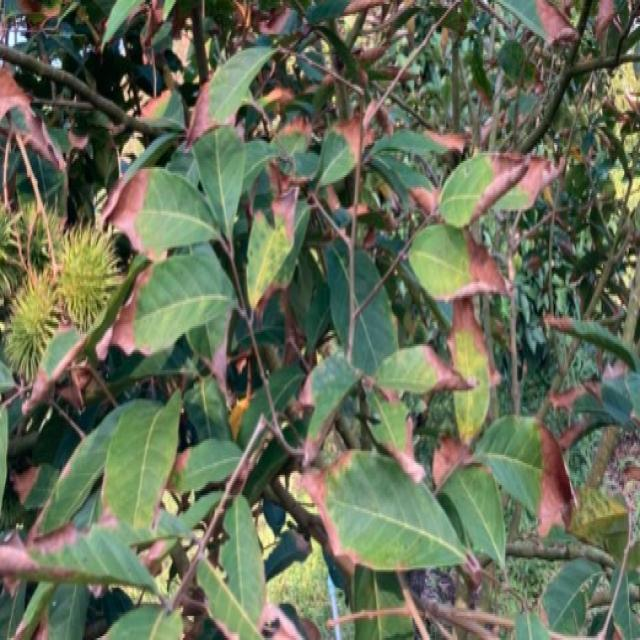Leaf Blight: (432, 86, 545, 445), (60, 45, 172, 346), (245, 318, 358, 603), (5, 403, 114, 630), (519, 380, 602, 586)
